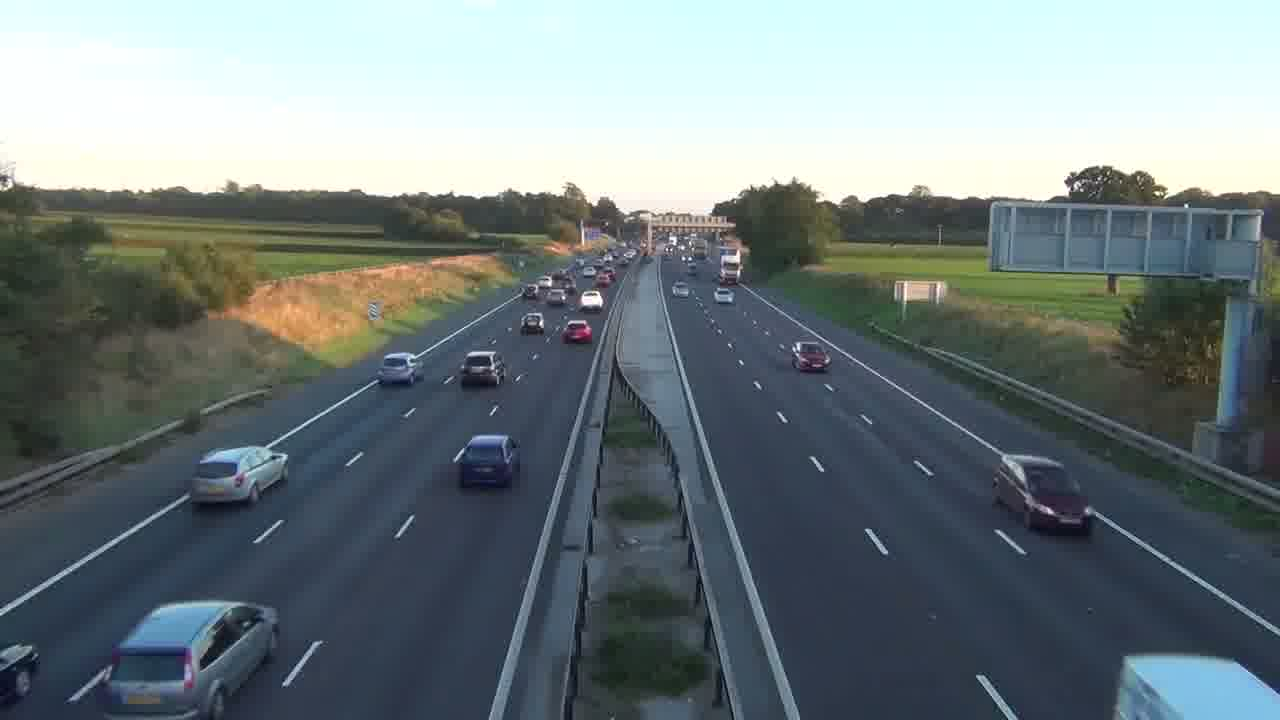car: (99, 599, 280, 718), (991, 453, 1091, 534), (188, 445, 289, 505), (454, 433, 521, 488), (0, 641, 40, 707), (459, 350, 505, 388), (377, 351, 425, 386), (792, 340, 831, 373), (561, 319, 593, 344), (520, 312, 545, 336), (713, 288, 734, 304)
truck: (1113, 652, 1280, 719)
